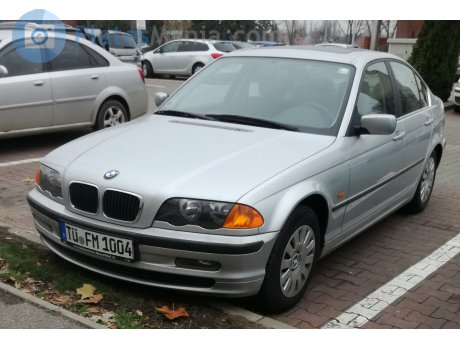License Plates: (59, 225, 133, 255)
